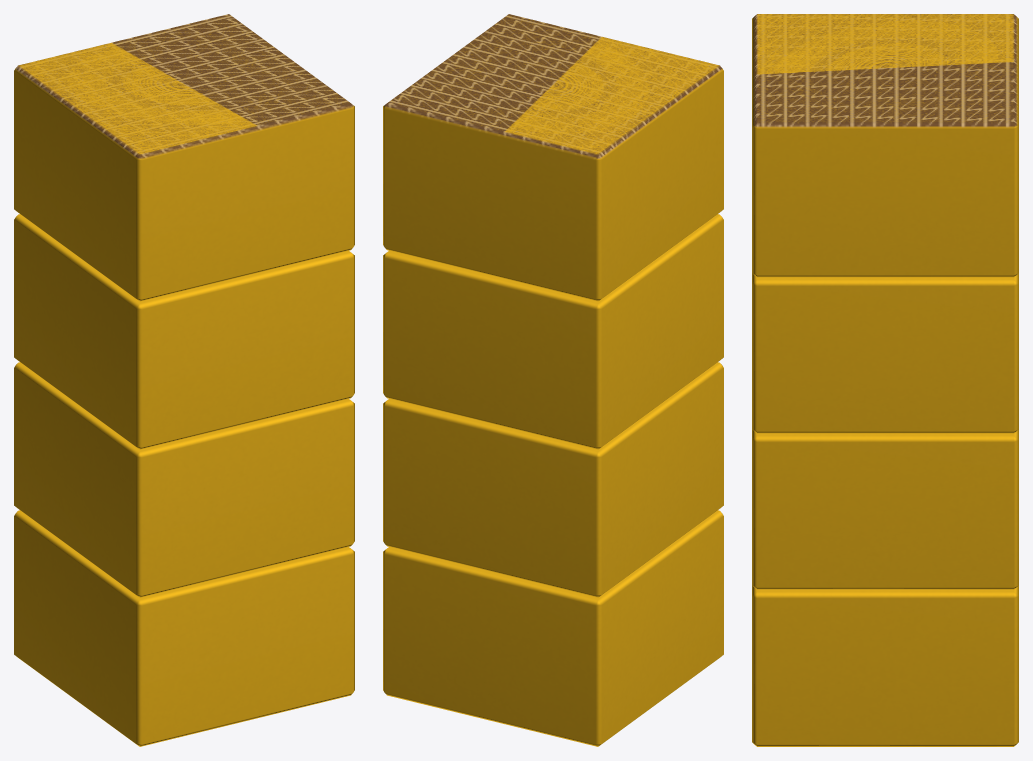
The model's file is 36-posts-back-left.fbx.
3 renders of one model, left to right at view 1: azimuth 30°, elevation 25°; view 2: azimuth 150°, elevation 25°; view 3: azimuth 270°, elevation 25°, orthographic. The views are drawn at different scales.
Parts seen in each view (by area): view 1: posts-back-left; view 2: posts-back-left; view 3: posts-back-left.
Part boxes in pixels (<box>): posts-back-left: <box>14,14,354,746</box>; posts-back-left: <box>383,14,723,746</box>; posts-back-left: <box>752,14,1018,746</box>.
Bounding box in the file's own units: 2400 × 6200 × 2400.
1 material, 1 textured.
